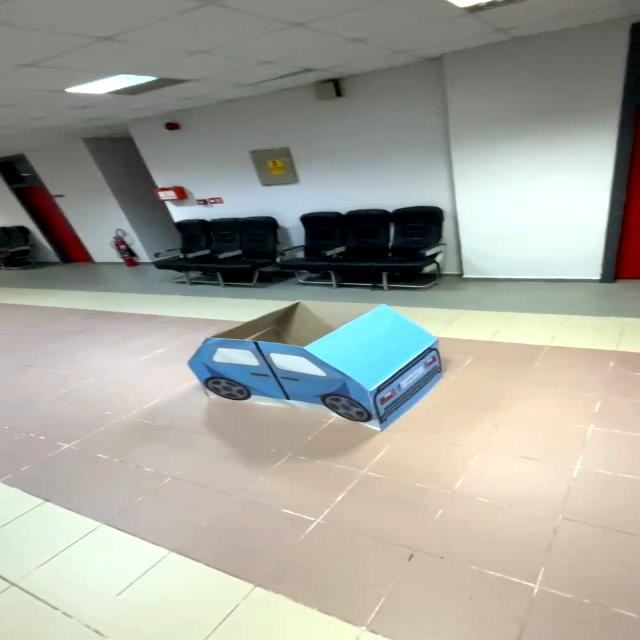blue_car: (156, 283, 468, 459)
